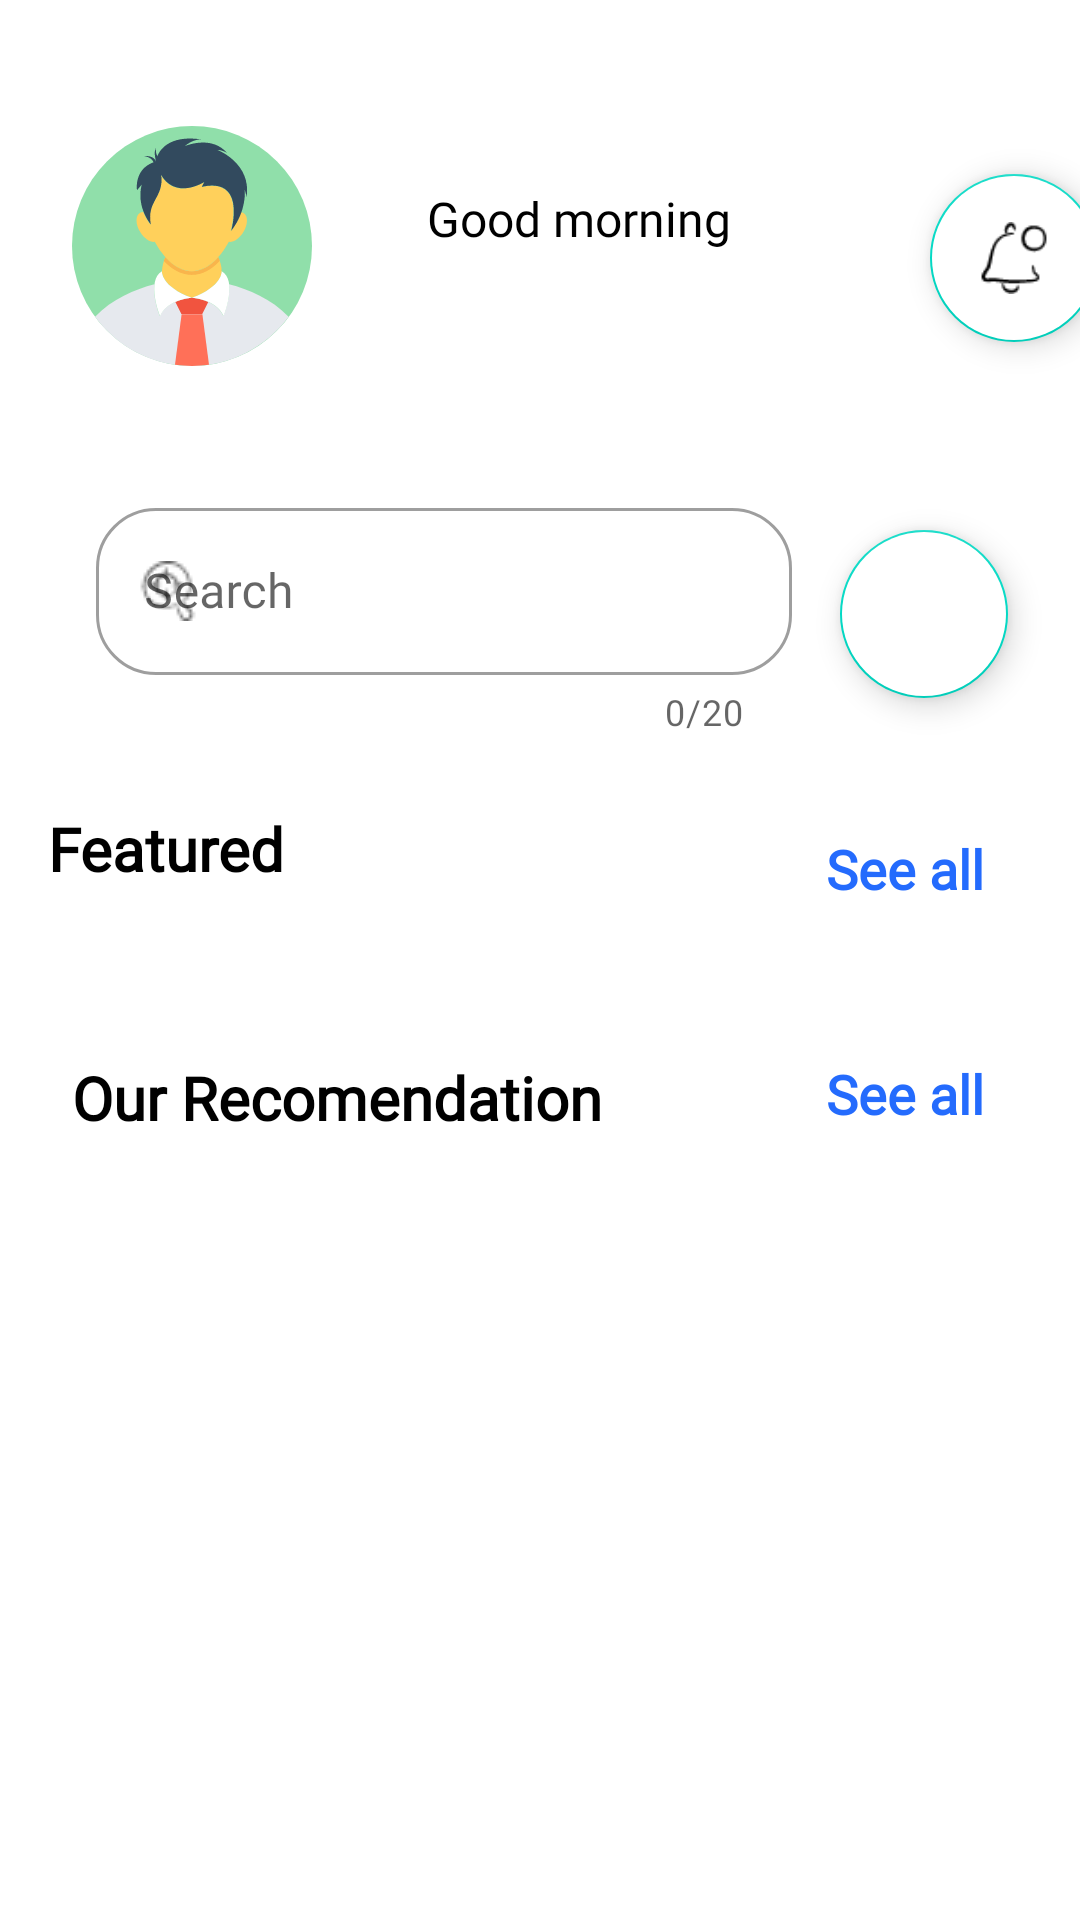

Where icons sit on this 1080w x 1920h app screen, as (x1, y1, x2, y2):
user: (72, 126, 312, 366)
